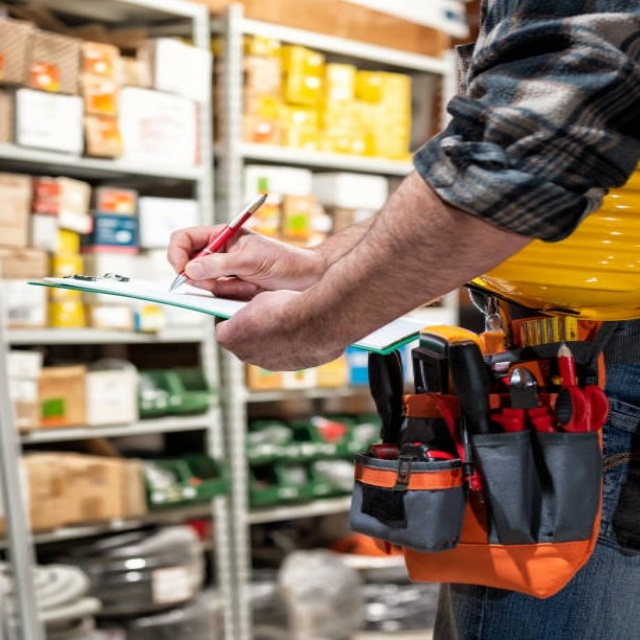Sin_guantes: (211, 287, 351, 375), (166, 221, 298, 298)
